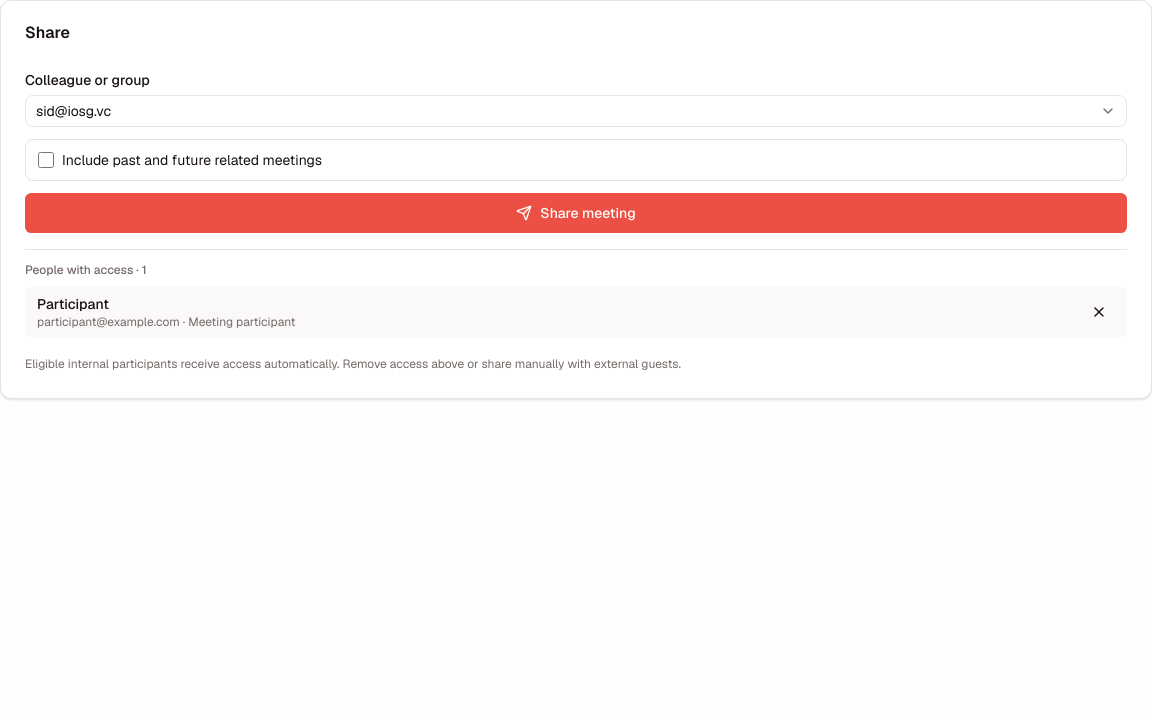
Test case: ShareDialog interactions › submits the visible recipient when browser input and state diverge
Click the button "Share meeting".
click(576, 213)  # box left=25, top=193, right=1127, bottom=233
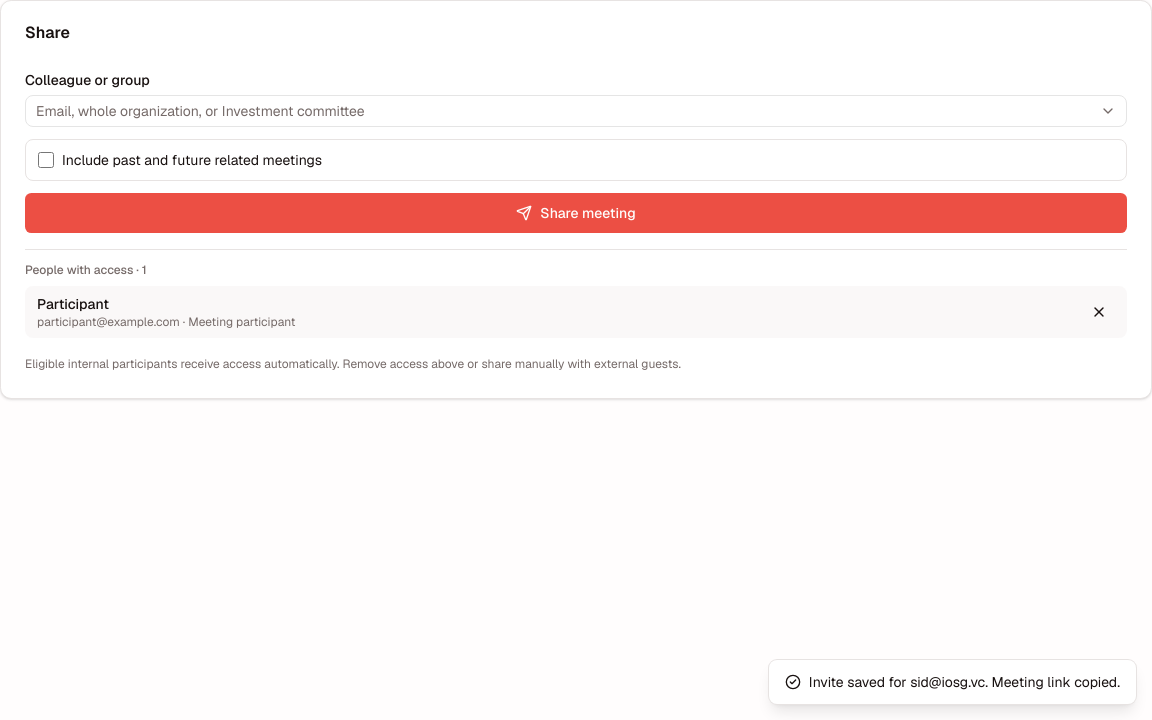
Check: the message "Invite saved for sid@iosg.vc. Meeting link copied." is shown, box left=769, top=660, right=1136, bottom=704
